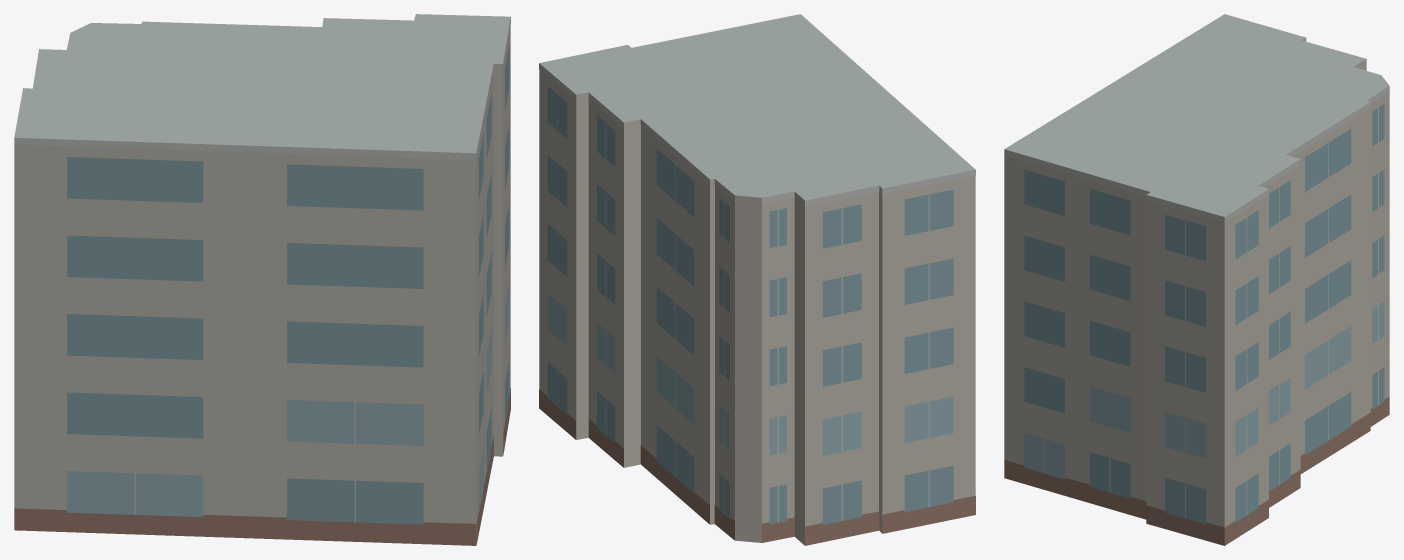
Rendered from survey-upis-32673419.glb.
3 views of the same model, side by side, from view 1: azimuth 30°, elevation 25°; view 2: azimuth 150°, elevation 25°; view 3: azimuth 270°, elevation 25° (orthographic). The views are drawn at different scales.
Parts seen in each view (by area): view 1: survey-upis-32673419.tmp; view 2: survey-upis-32673419.tmp; view 3: survey-upis-32673419.tmp.
Boxes of the visible parts, left/top/right/bottom form: survey-upis-32673419.tmp: left=14, top=14, right=510, bottom=545; survey-upis-32673419.tmp: left=539, top=14, right=975, bottom=545; survey-upis-32673419.tmp: left=1004, top=14, right=1389, bottom=545.
Bounding box in the file's own units: 18.41 × 13.9 × 14.77.
